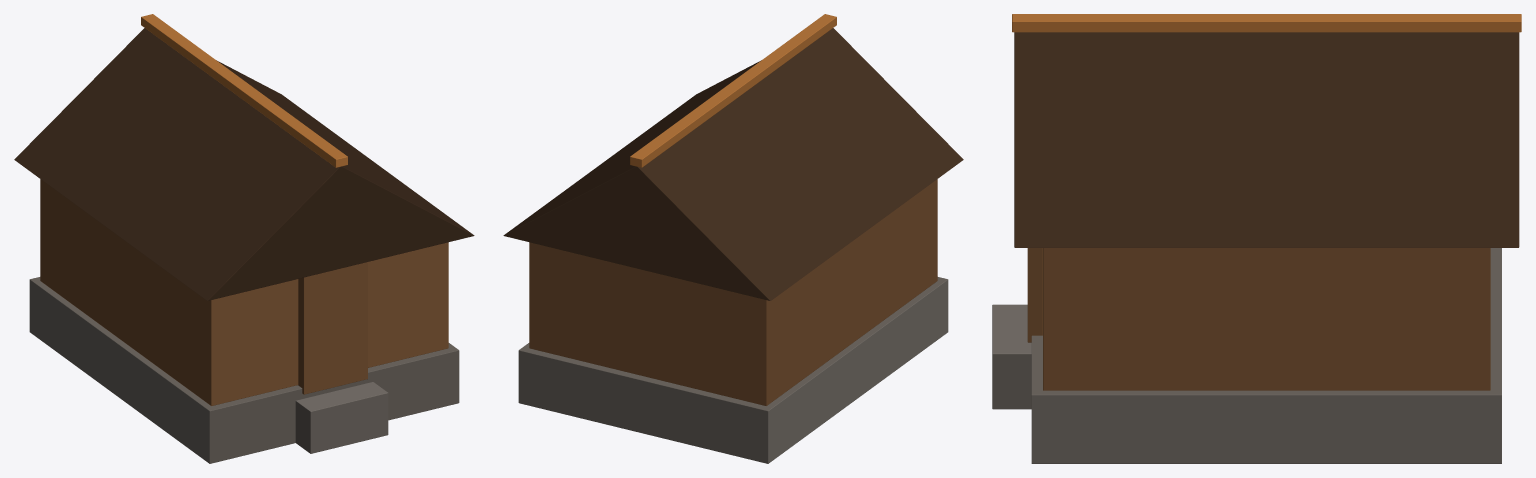
File: House_Chalco_c.fbx
3 renders of one model, left to right at view 1: azimuth 30°, elevation 25°; view 2: azimuth 150°, elevation 25°; view 3: azimuth 270°, elevation 25°, orthographic. The views are drawn at different scales.
Visible parts, largest first — view 1: House_Chalco_c; view 2: House_Chalco_c; view 3: House_Chalco_c.
Part boxes in pixels (box(x1,y1,x2,y2)): House_Chalco_c: box(14, 14, 474, 463); House_Chalco_c: box(503, 14, 963, 463); House_Chalco_c: box(992, 14, 1521, 463).
Size of what is drawn, in the model's own units: 3.95 by 3.97 by 5.19.
